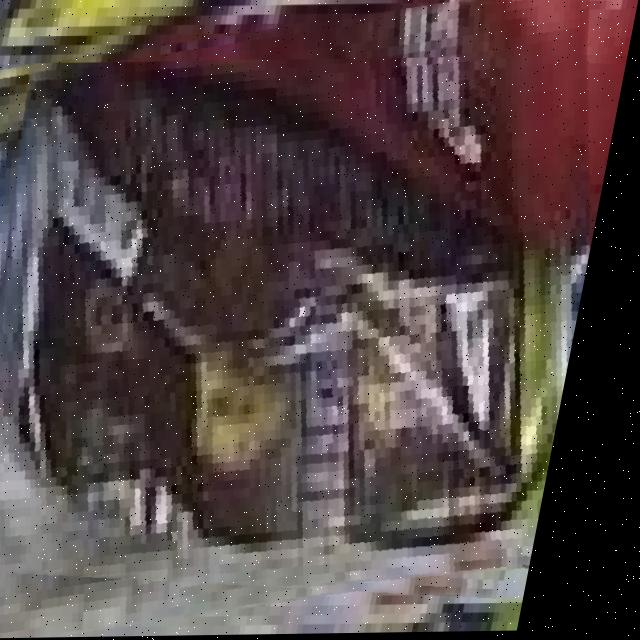can: (3, 61, 596, 594)
